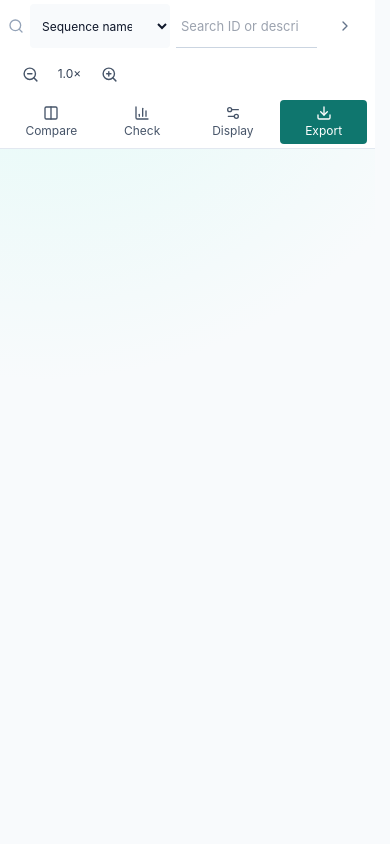
Test case: MsaViewerToolbar › publishes motif rules and both coordinate systems
The image size is (390, 844).
Select "Sequence motif" in the dropdown named "Search and navigation type" at coordinates (100, 26), box [30, 4, 170, 48]
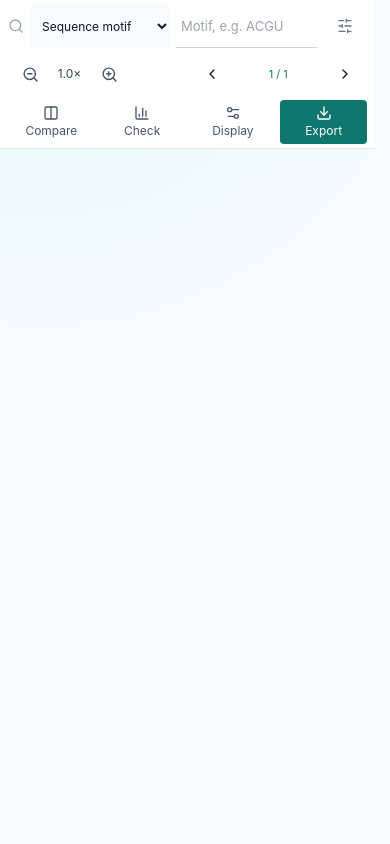
Click the heading named "More search options" at coordinates (345, 26), box [337, 18, 353, 34]
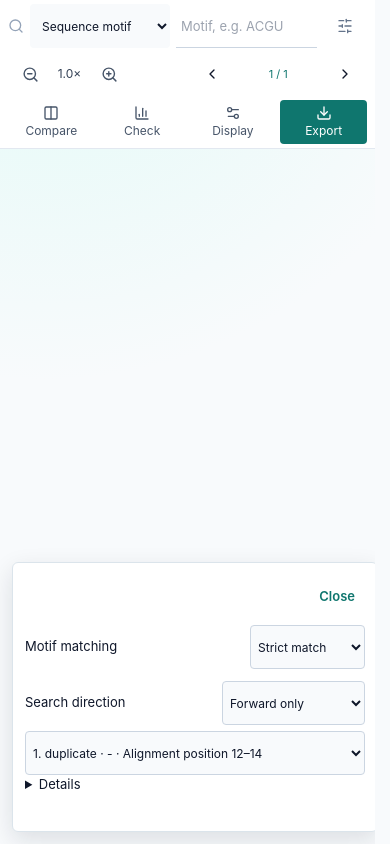
Select "Possible match" in the dropdown labelled "Motif matching" at coordinates (308, 647), box [250, 625, 365, 669]
Select "Search both strands" in the dropdown labelled "Search direction" at coordinates (294, 703), box [222, 681, 365, 725]
Click the heading "Details" at coordinates (60, 784), box [39, 776, 81, 792]
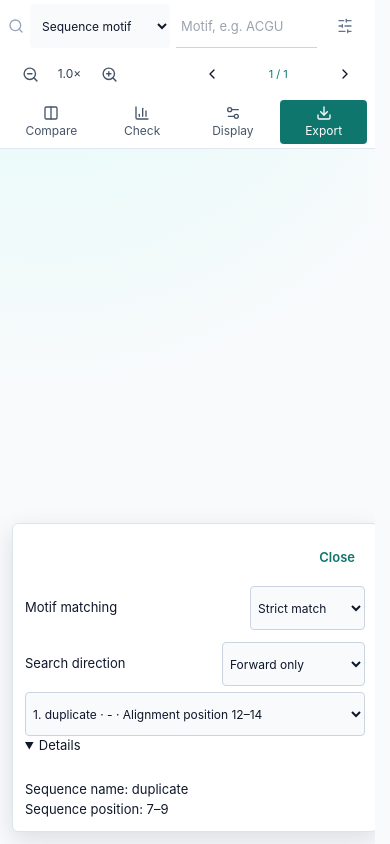
Now the text "Sequence position: 7–9" is shown, box [25, 800, 168, 816]
